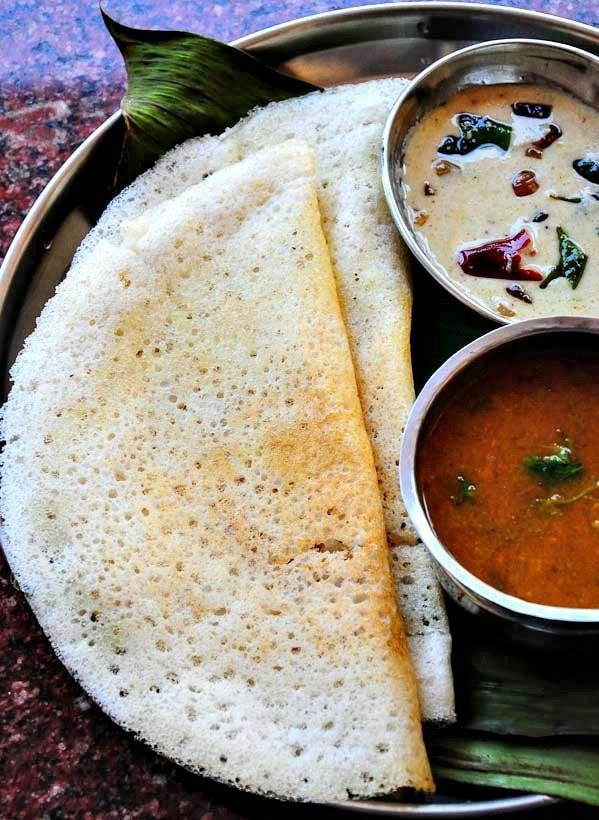CoconutChutney: (404, 82, 599, 323)
Dosa: (3, 144, 434, 800), (71, 79, 454, 719)
